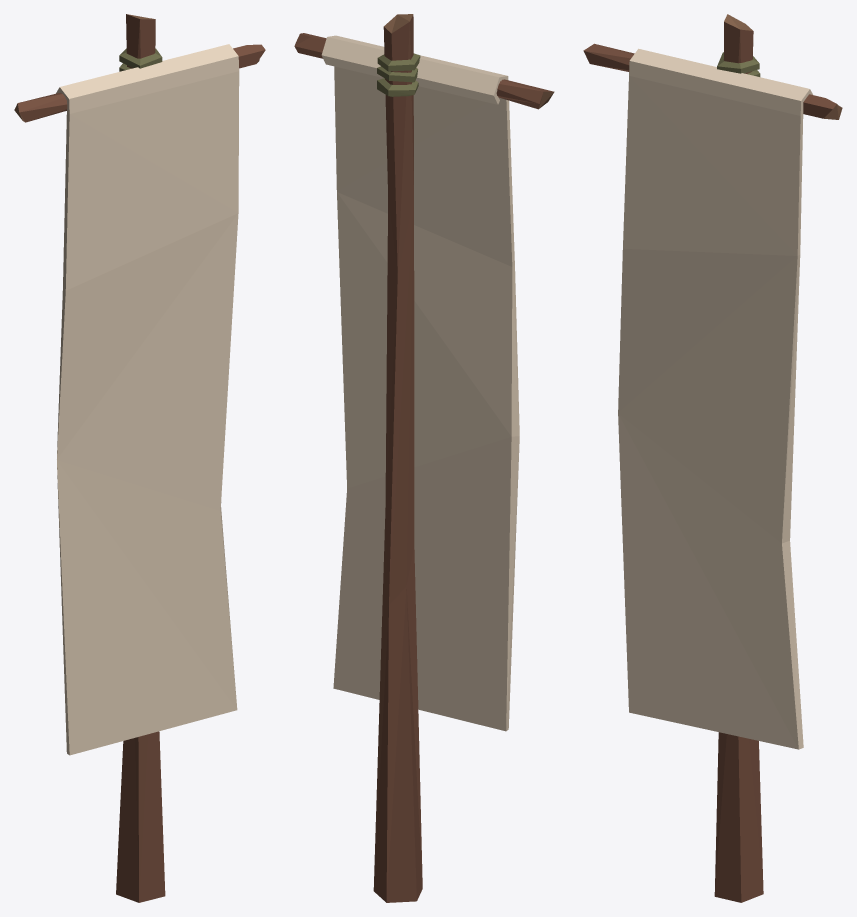
The model's file is Sign_2 Asia.fbx.
3 views of the same model, side by side, from view 1: azimuth 30°, elevation 25°; view 2: azimuth 150°, elevation 25°; view 3: azimuth 330°, elevation 25° (orthographic).
Visible parts, largest first — view 1: Sign_2; view 2: Sign_2; view 3: Sign_2.
Boxes of the visible parts, x1=… form: Sign_2: x1=14, y1=14, x2=265, y2=902; Sign_2: x1=294, y1=14, x2=554, y2=902; Sign_2: x1=583, y1=14, x2=842, y2=902.
Bounding box in the file's own units: 0.5935 × 2 × 0.1374.
